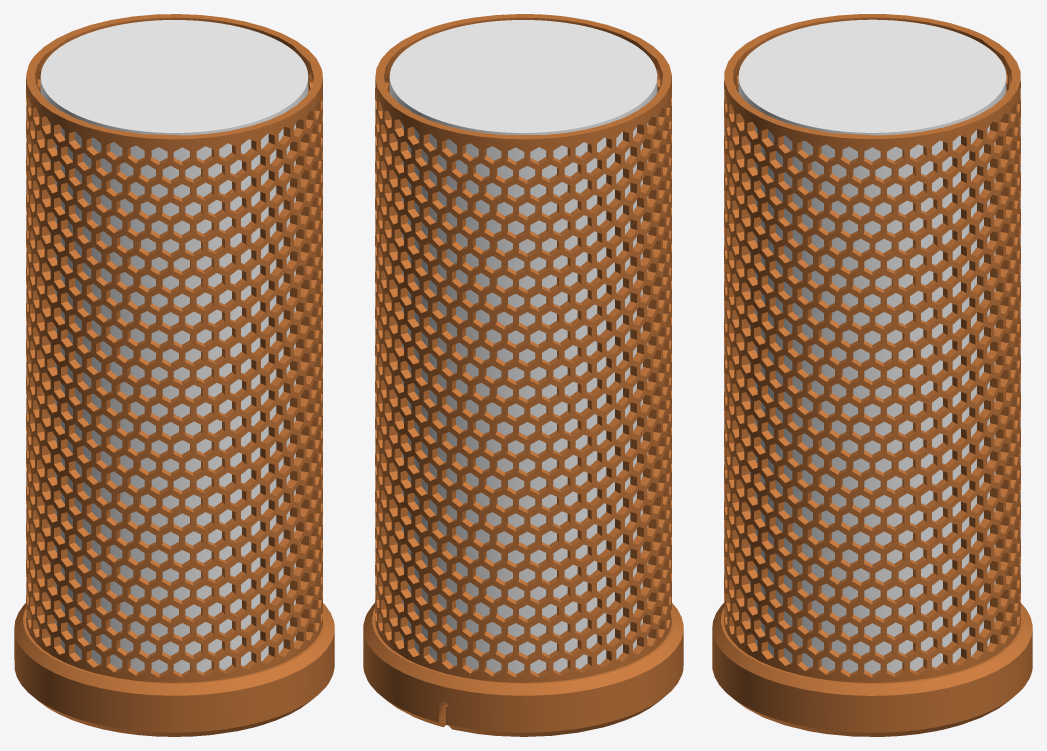
The model's file is lampara-hexagonal_Optimized.glb.
The picture shows the model from 3 angles, left to right: view 1: azimuth 30°, elevation 25°; view 2: azimuth 150°, elevation 25°; view 3: azimuth 270°, elevation 25°; orthographic projection.
Visible parts, largest first — view 1: Hex_Light_-_Foxwood_Black, KumikoLEDKIT001-VaseModeShadeLARGE_Off, KumikoLEDKIT001-BaseMain_50M_LED_Final_Black; view 2: Hex_Light_-_Foxwood_Black, KumikoLEDKIT001-VaseModeShadeLARGE_Off, KumikoLEDKIT001-BaseMain_50M_LED_Final_Black; view 3: Hex_Light_-_Foxwood_Black, KumikoLEDKIT001-VaseModeShadeLARGE_Off, KumikoLEDKIT001-BaseMain_50M_LED_Final_Black.
Boxes of the visible parts, box(x1,y1,x2,y2) form: Hex_Light_-_Foxwood_Black: box(26, 14, 322, 682); KumikoLEDKIT001-VaseModeShadeLARGE_Off: box(40, 20, 308, 673); KumikoLEDKIT001-BaseMain_50M_LED_Final_Black: box(14, 603, 334, 736); Hex_Light_-_Foxwood_Black: box(375, 14, 671, 682); KumikoLEDKIT001-VaseModeShadeLARGE_Off: box(389, 20, 657, 673); KumikoLEDKIT001-BaseMain_50M_LED_Final_Black: box(363, 603, 683, 736); Hex_Light_-_Foxwood_Black: box(724, 14, 1020, 682); KumikoLEDKIT001-VaseModeShadeLARGE_Off: box(738, 19, 1006, 674); KumikoLEDKIT001-BaseMain_50M_LED_Final_Black: box(712, 603, 1032, 736).
Bounding box in the file's own units: 0.11 × 0.2259 × 0.11.
